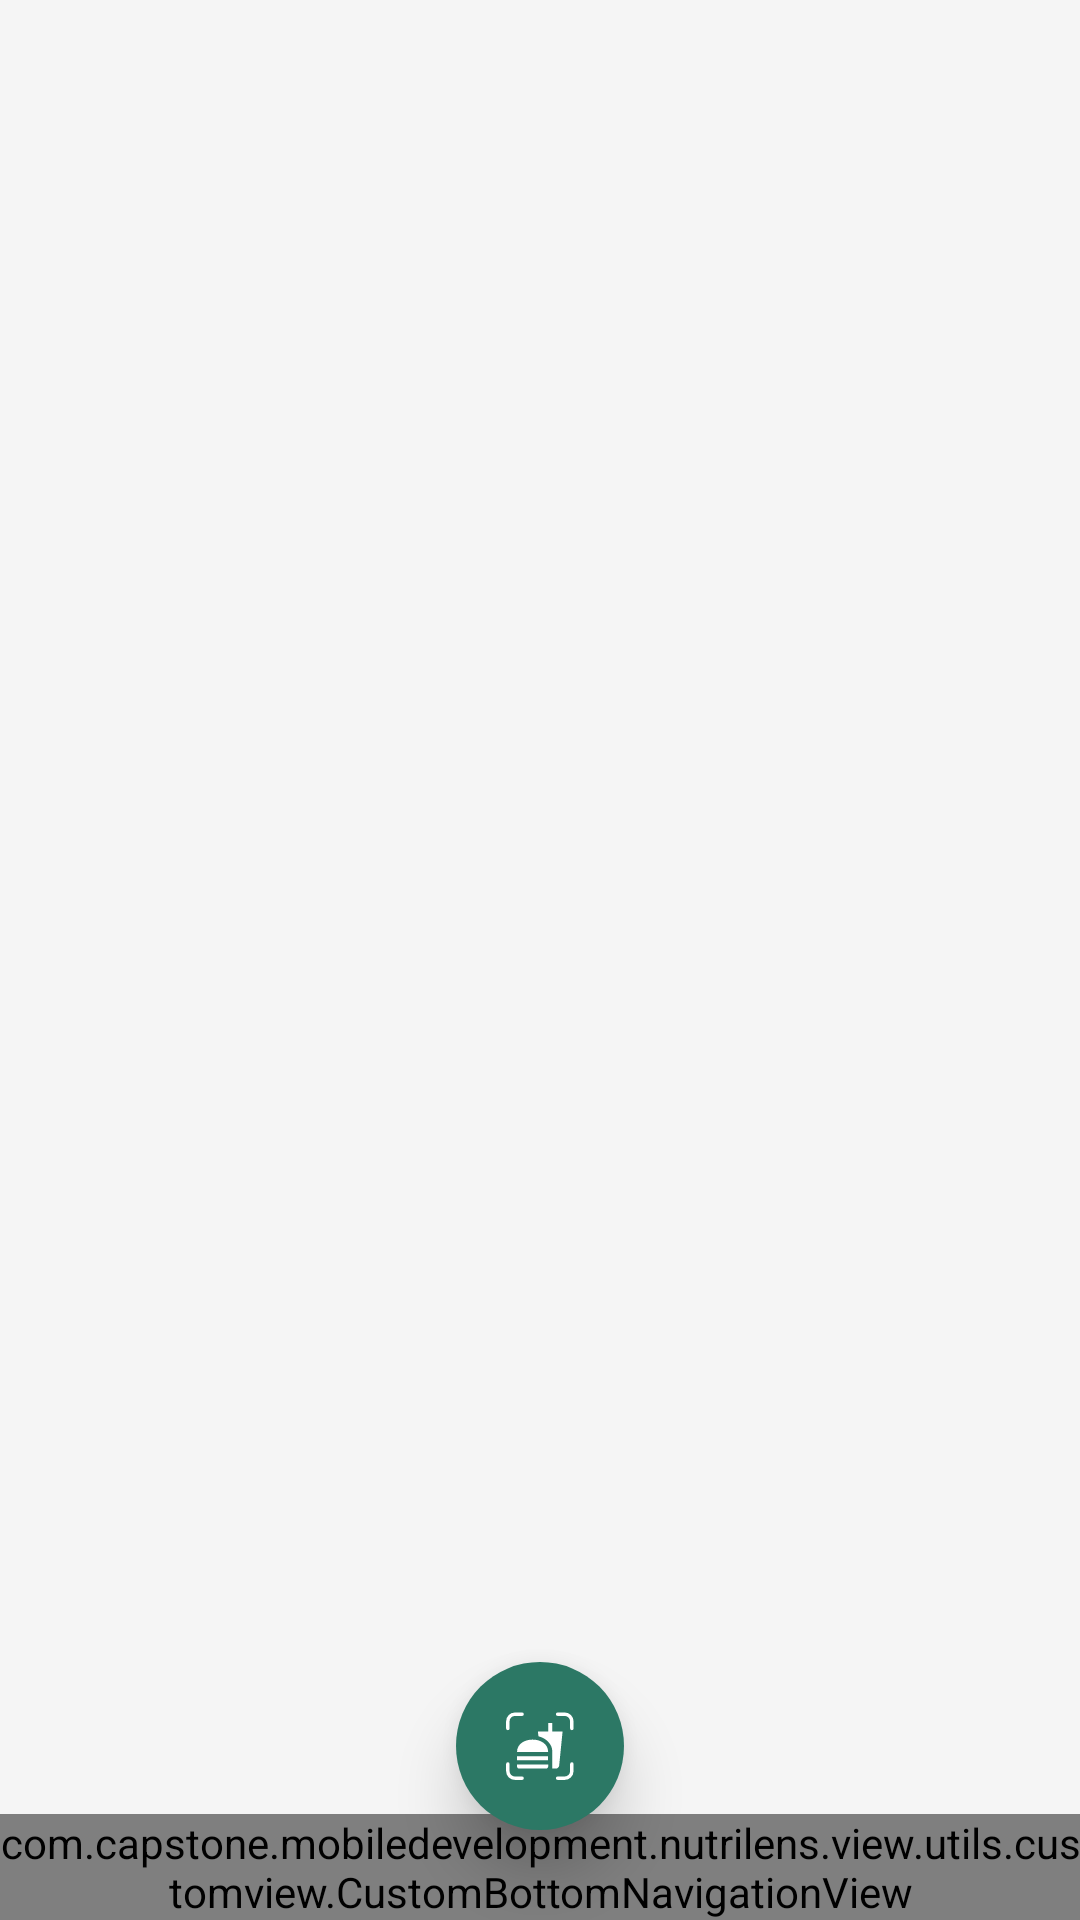

Icons on this 1080px x 1920px Android screen, each with the point to tap as [x,y]:
lucide scan: [540,1746]
